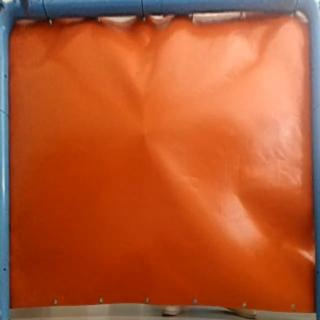Hit-hRxx: (139, 129, 155, 144)
